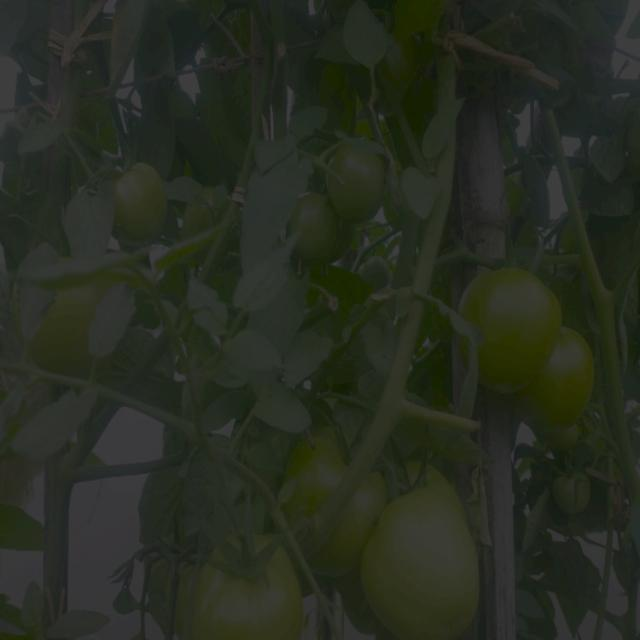tomato: (356, 493, 486, 640), (185, 534, 304, 639), (465, 268, 551, 393), (523, 322, 596, 433), (35, 270, 96, 375), (319, 483, 396, 565), (324, 138, 394, 223), (110, 159, 180, 238), (285, 425, 343, 503), (289, 198, 349, 265), (390, 456, 457, 511), (547, 470, 596, 522)
